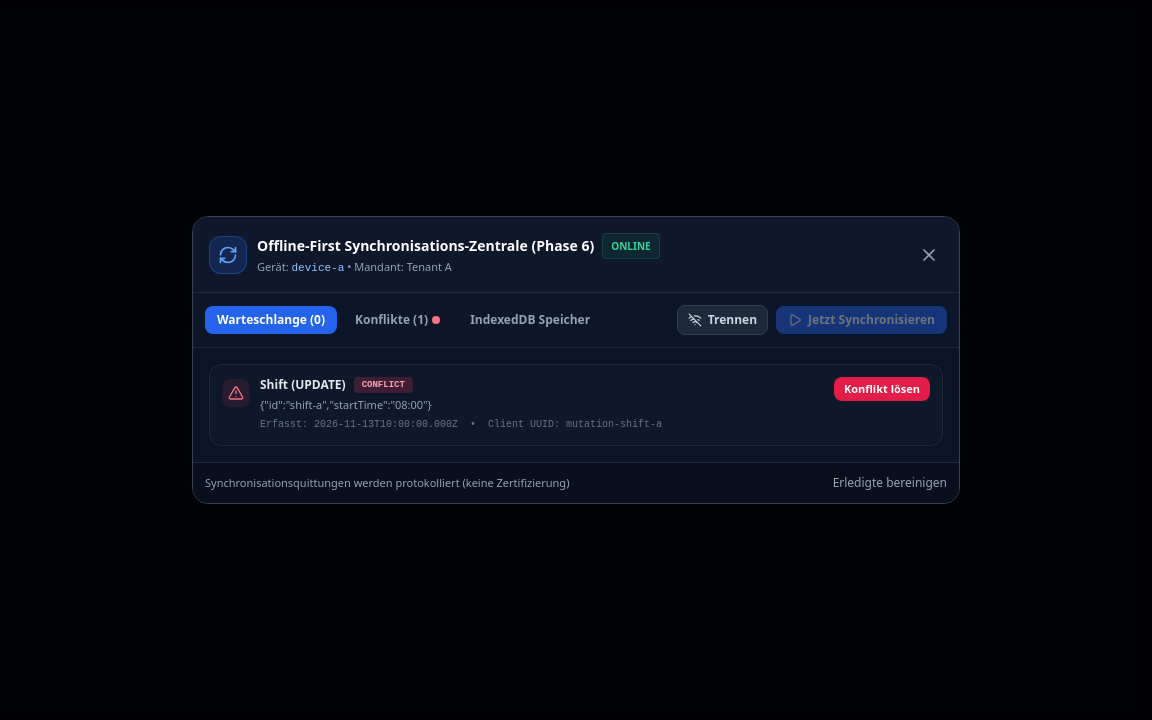
Test: SyncManagerModal shift conflict snapshots › does not apply an old conflict success to a new identity selection
Click the button "Konflikt lösen": (882, 389) [834,377,930,401]
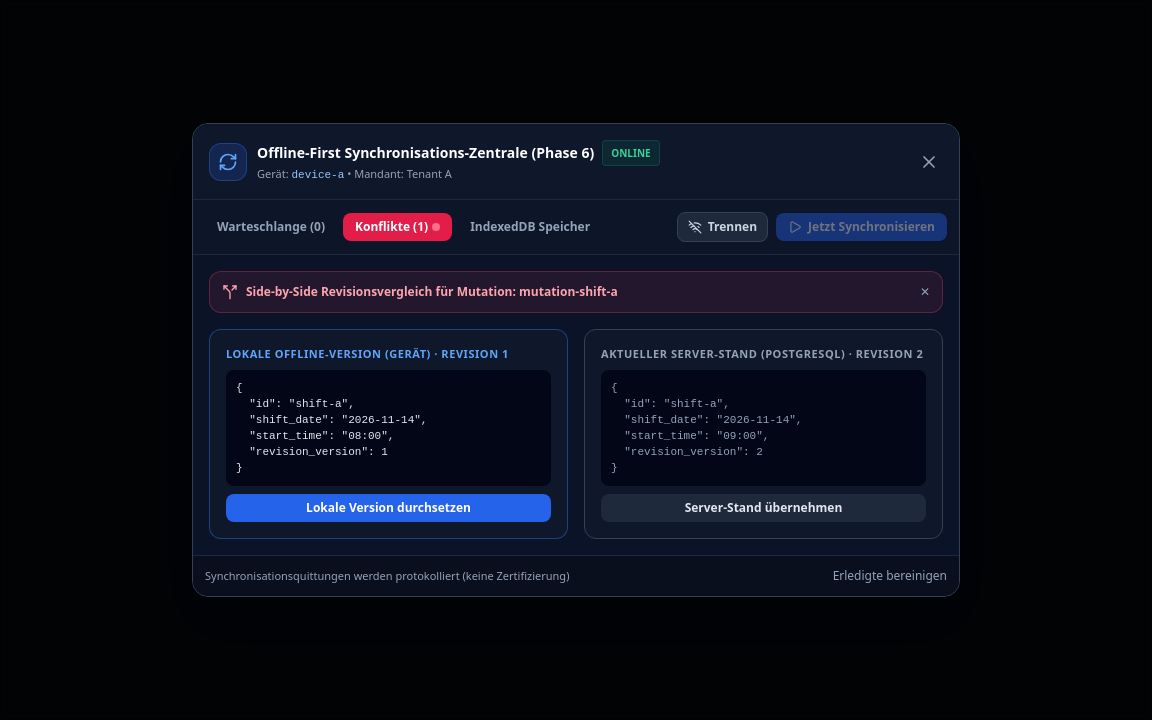
Click the button "Lokale Version durchsetzen": (388, 508) [226,494,551,522]
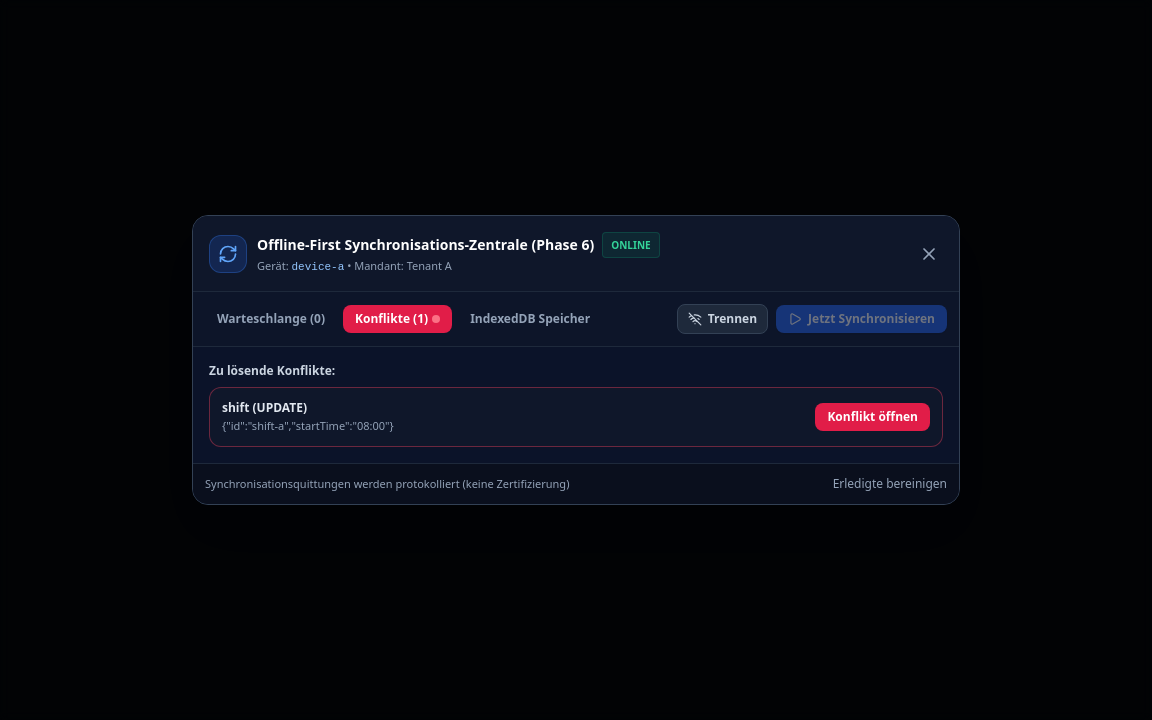
Click the button "Warteschlange (0)": (271, 319) [205,305,337,333]
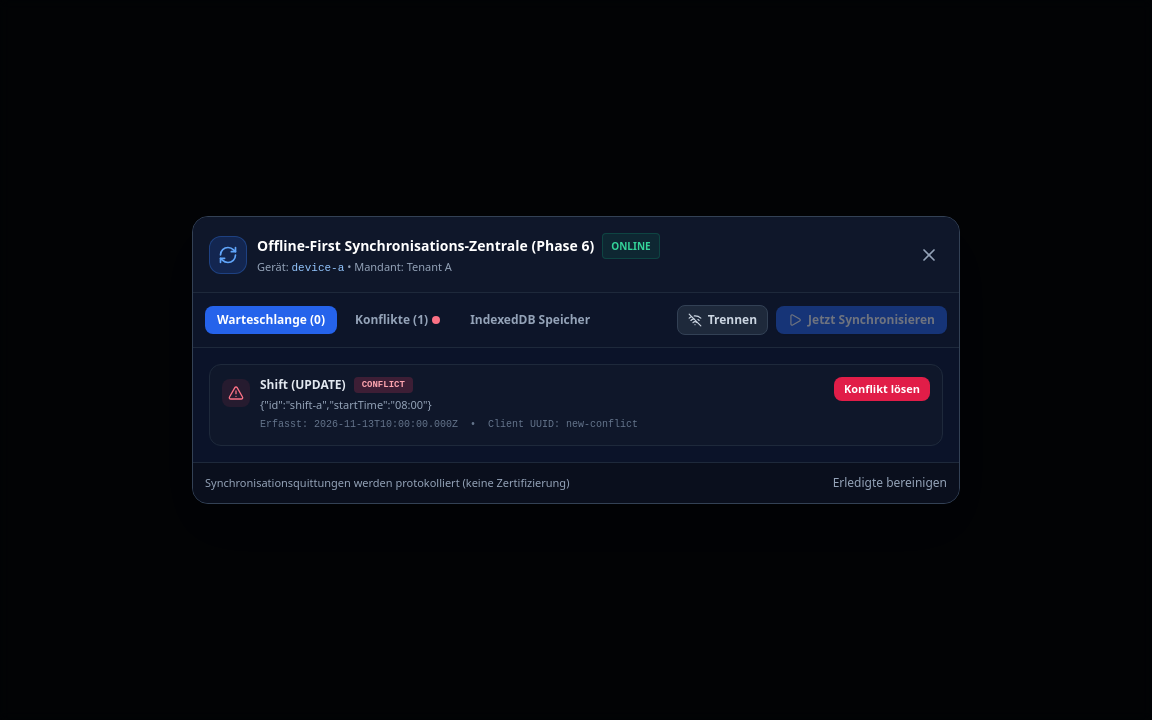
Click the button "Konflikt lösen": (882, 389) [834,377,930,401]
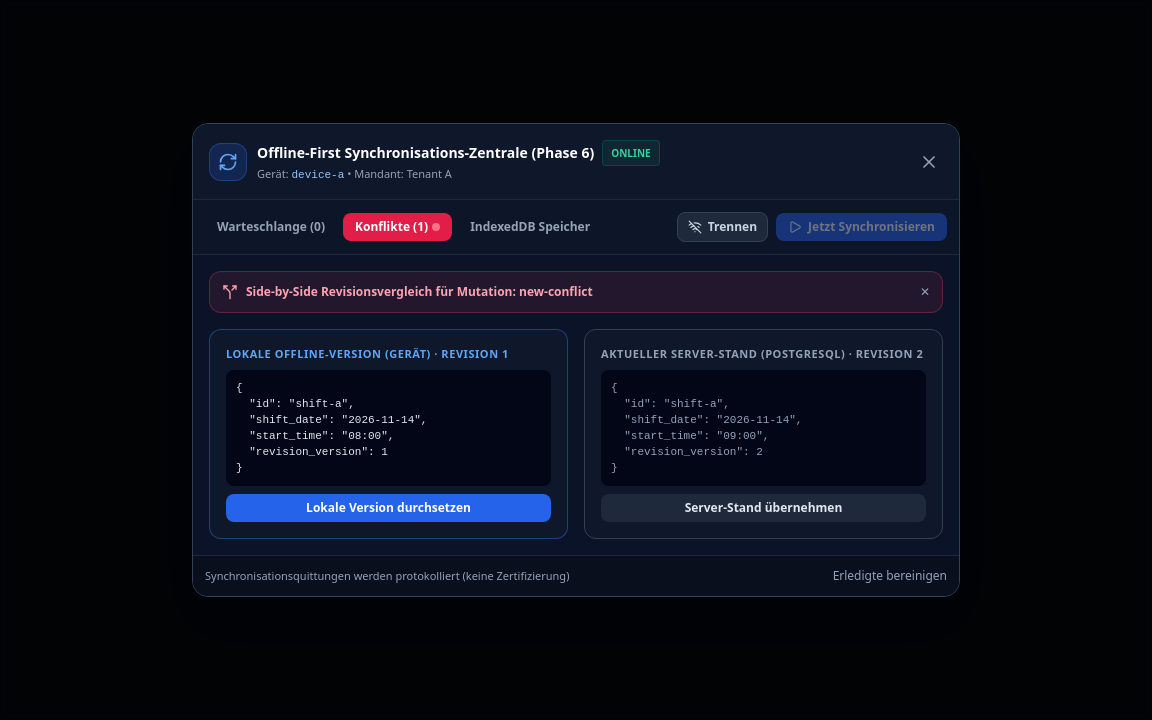
Result: the text "Lokale Version durchsetzen" is shown at [226,494,551,522]
